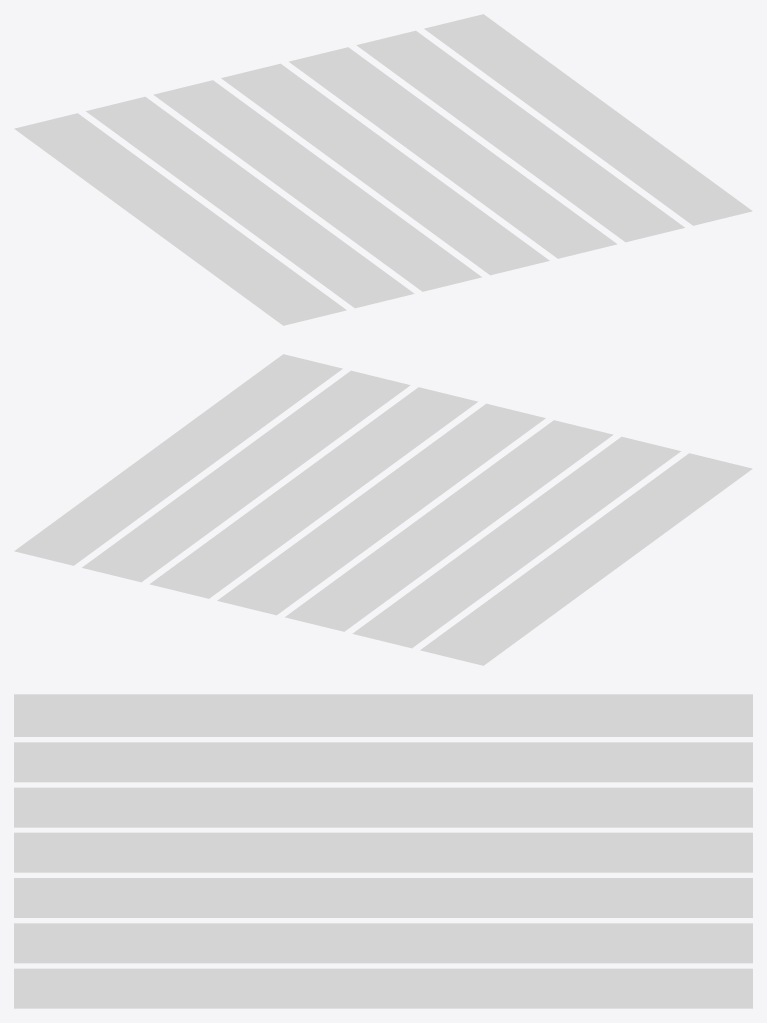
File: carpet_017.glb
3 renders of one model, top to bottom at view 1: azimuth 30°, elevation 25°; view 2: azimuth 150°, elevation 25°; view 3: azimuth 270°, elevation 25°, orthographic. The views are drawn at different scales.
Parts seen in each view (by area): view 1: carpet_017; view 2: carpet_017; view 3: carpet_017.
Part boxes in pixels (x1,y1,x2,y2): carpet_017: [14, 14, 752, 325]; carpet_017: [14, 354, 752, 665]; carpet_017: [14, 694, 752, 1008].
Bounding box in the file's own units: 0.6611 × 0 × 0.6569.
1 material, 1 textured.
